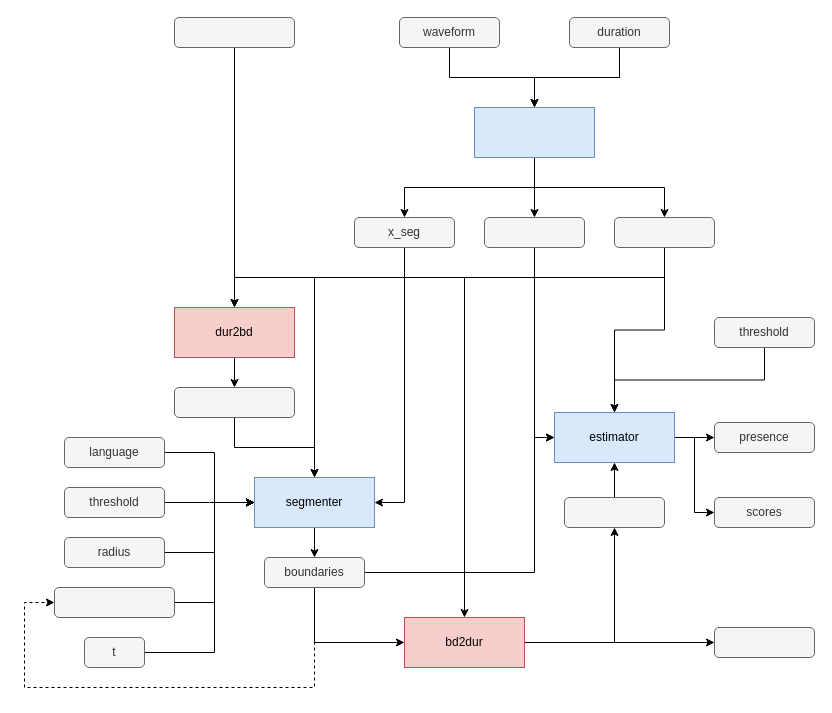
Image size: 832x713. Some labels were removed from this diagram. Here are the shapes that lost their labels. From the top down, the box of each, then its label:
(174, 16, 294, 48): known_durations
(474, 106, 594, 158): encoder
(484, 216, 584, 248): x_est
(614, 216, 714, 248): maskT
(174, 386, 294, 418): known_boundaries
(564, 496, 664, 528): maskN
(54, 586, 174, 618): prev_boundaries
(714, 626, 814, 658): durations
